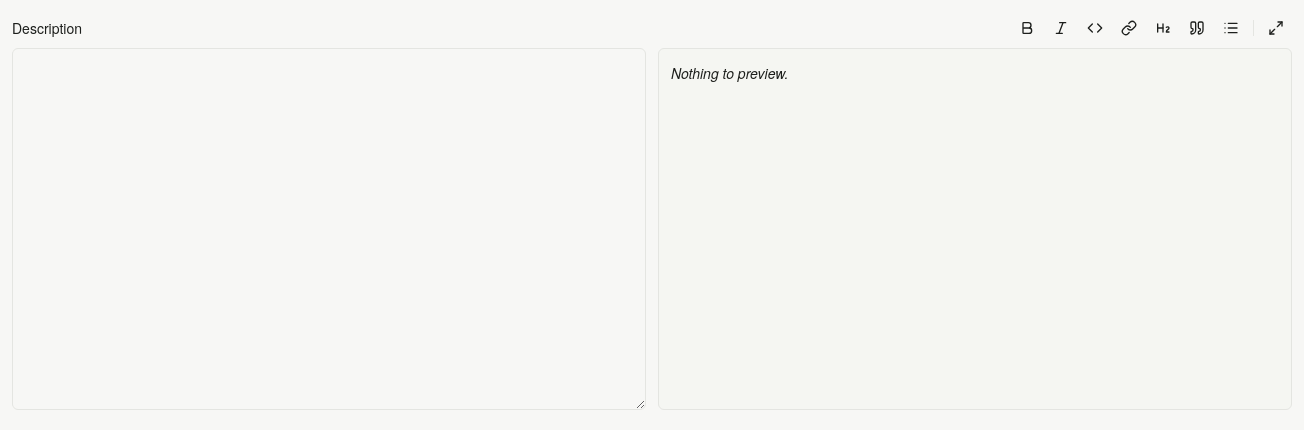
Scenario: shows the preview beside the text, and says what is in an empty one
Expected: the text "Nothing to preview." is shown, [671, 63, 788, 83]
Type "A **clear** description." into the text box named "Description" at (329, 229), box [13, 49, 645, 409]
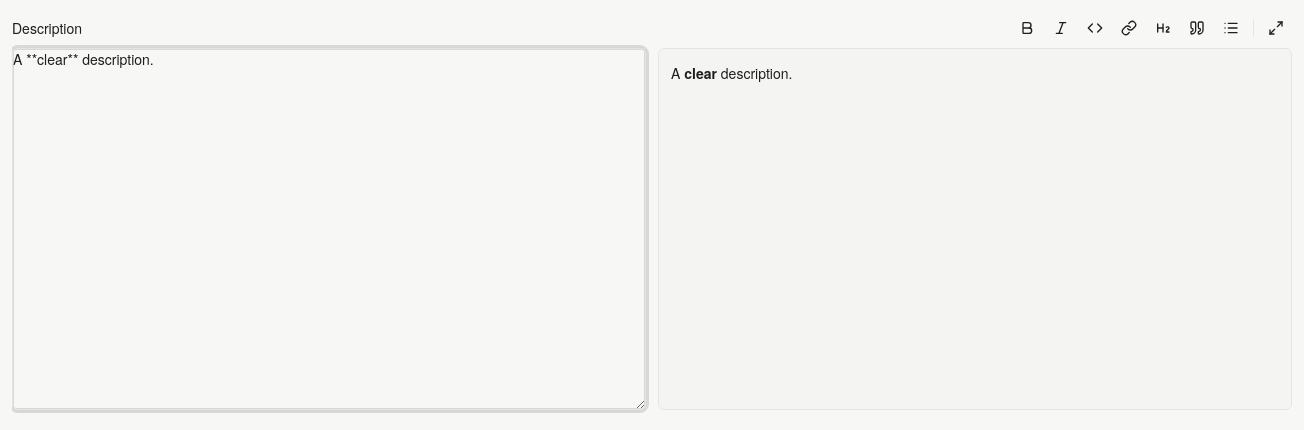
Result: the text "clear" is shown at [684, 63, 717, 83]
